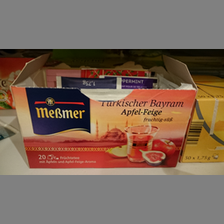tea: (10, 54, 197, 170)
